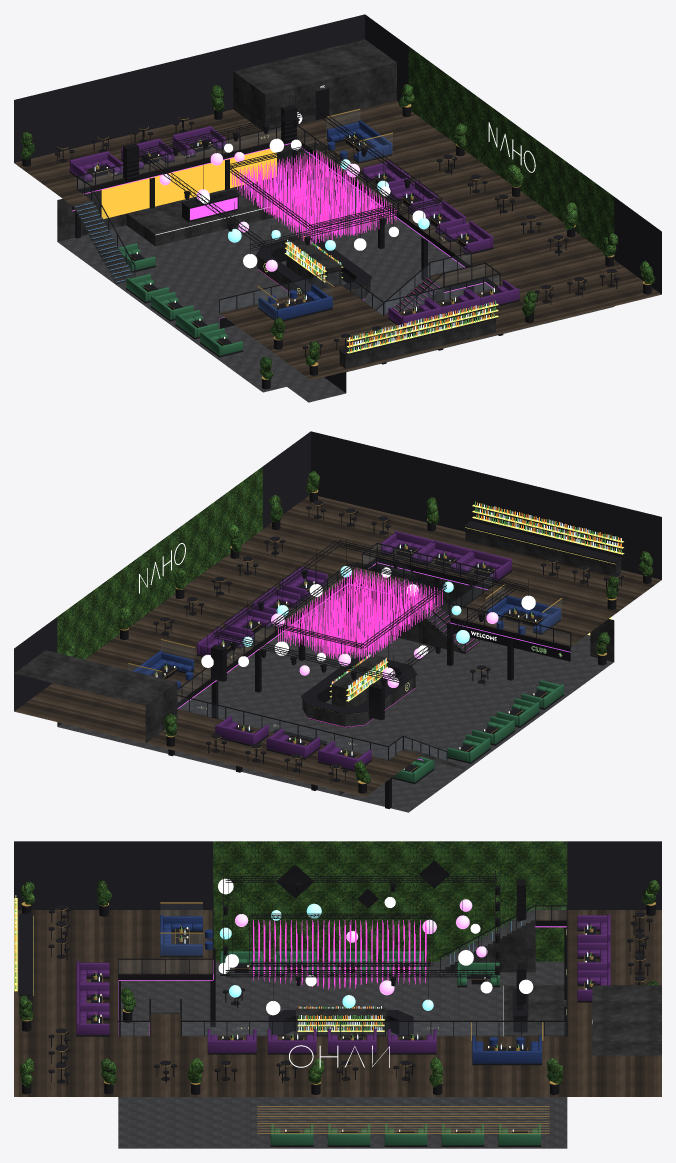
The model's file is naho.glb.
The picture shows the model from 3 angles, top to bottom: view 1: azimuth 30°, elevation 25°; view 2: azimuth 150°, elevation 25°; view 3: azimuth 270°, elevation 25°; orthographic projection. The views are drawn at different scales.
Parts seen in each view (by area): view 1: lvl1_slabs, ground_floor, lvl1_furniture, walls_upper, wall_east, lvl1_wc, rig, fx_ledrain, fx_screen, stage, furniture, bar (+9 smaller); view 2: lvl1_slabs, ground_floor, lvl1_furniture, walls_upper, wall_east, rig, fx_ledrain, lvl1_wc, furniture, bar, stairs, fx_spheres (+6 smaller); view 3: wall_west, lvl1_slabs, ground_floor, lvl1_furniture, rig, furniture, lvl1_wc, slats, fx_ledrain, fx_spheres, bar, stairs (+6 smaller).
Part boxes in pixels (<box>): lvl1_slabs: <box>14,100,661,379</box>; ground_floor: <box>58,174,613,402</box>; lvl1_furniture: <box>21,84,655,375</box>; walls_upper: <box>14,14,364,162</box>; wall_east: <box>365,14,661,306</box>; lvl1_wc: <box>233,39,396,131</box>; rig: <box>91,92,443,315</box>; fx_ledrain: <box>232,150,396,244</box>; fx_screen: <box>101,149,276,219</box>; stage: <box>126,184,279,246</box>; furniture: <box>118,243,418,389</box>; bar: <box>256,235,371,299</box>; lvl1_slabs: <box>14,495,661,796</box>; ground_floor: <box>58,594,613,812</box>; lvl1_furniture: <box>62,470,652,793</box>; walls_upper: <box>311,431,661,579</box>; wall_east: <box>14,431,310,726</box>; rig: <box>207,539,528,762</box>; fx_ledrain: <box>278,568,442,660</box>; lvl1_wc: <box>14,650,177,743</box>; furniture: <box>341,632,609,783</box>; bar: <box>301,655,416,727</box>; stairs: <box>390,578,478,769</box>; fx_spheres: <box>201,566,535,687</box>; wall_west: <box>14,841,661,961</box>; lvl1_slabs: <box>14,910,661,1096</box>; ground_floor: <box>118,961,567,1148</box>; lvl1_furniture: <box>18,880,660,1094</box>; rig: <box>150,860,535,1014</box>; furniture: <box>121,951,540,1146</box>; lvl1_wc: <box>592,985,661,1055</box>; slats: <box>257,1106,549,1133</box>; fx_ledrain: <box>253,920,426,989</box>; fx_spheres: <box>218,878,533,1015</box>; bar: <box>268,1008,413,1036</box>; stairs: <box>151,910,535,1014</box>.
Bounding box in the file's own units: 28.02 × 8.4 × 41.
34 materials, 4 textured.
